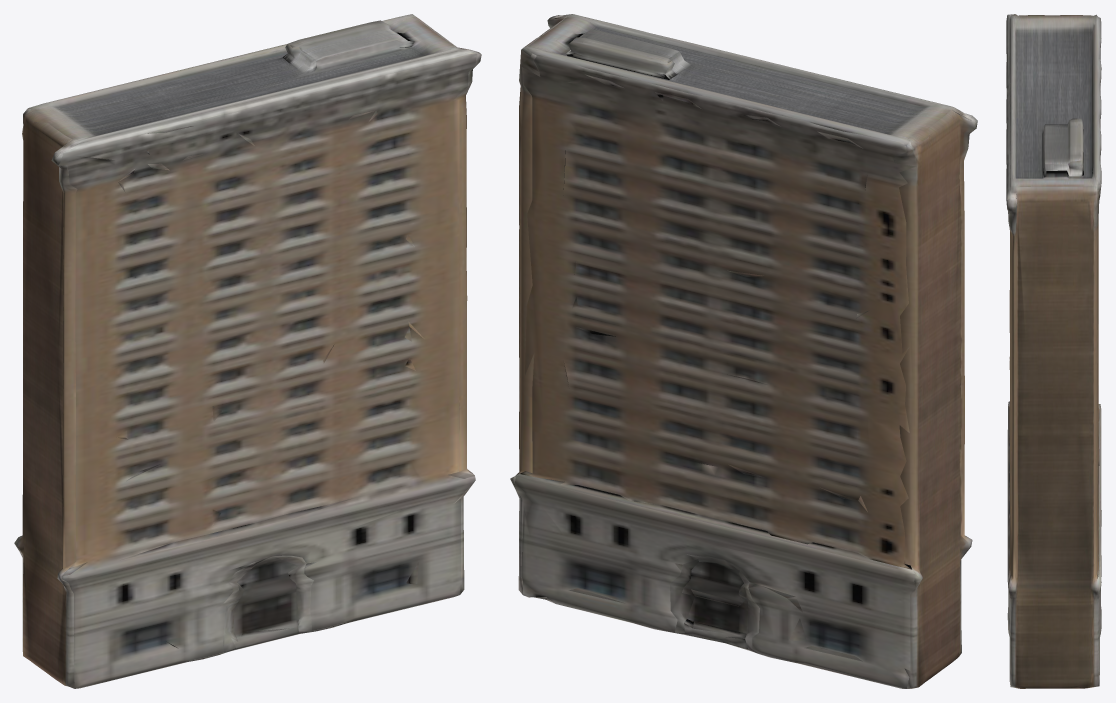
Rendered from lakeview_building_116_s_michigan.glb.
3 renders of one model, left to right at view 1: azimuth 30°, elevation 25°; view 2: azimuth 150°, elevation 25°; view 3: azimuth 270°, elevation 25°, orthographic. The views are drawn at different scales.
Visible parts, largest first — view 1: lakeview_building_116_s_michigan; view 2: lakeview_building_116_s_michigan; view 3: lakeview_building_116_s_michigan.
Boxes of the visible parts, x1,y1,x2,y2 form: lakeview_building_116_s_michigan: [14, 14, 481, 688]; lakeview_building_116_s_michigan: [510, 14, 977, 688]; lakeview_building_116_s_michigan: [1006, 14, 1101, 688].
Size of the model in its own units: 52 by 65 by 11.
Materials: 1 (1 with a texture image).
